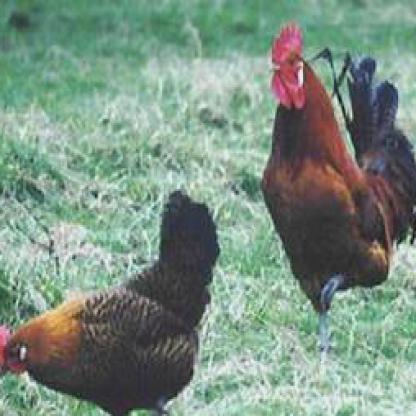chicken: (0, 189, 225, 415), (259, 23, 414, 350)
